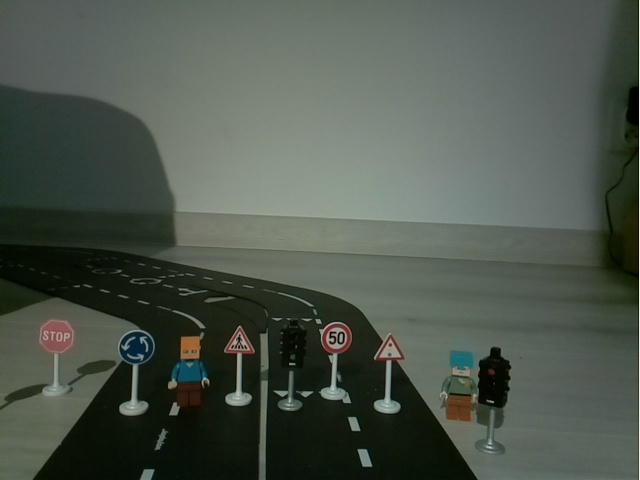green light: (274, 317, 309, 415)
limit 50: (317, 321, 353, 405)
pedestrian sign: (219, 323, 256, 410)
person: (168, 333, 213, 412)
red light: (478, 347, 508, 456)
round: (114, 328, 156, 418)
second person: (436, 343, 479, 425)
stop: (36, 316, 78, 400)
traffic light sign: (371, 330, 405, 416)
